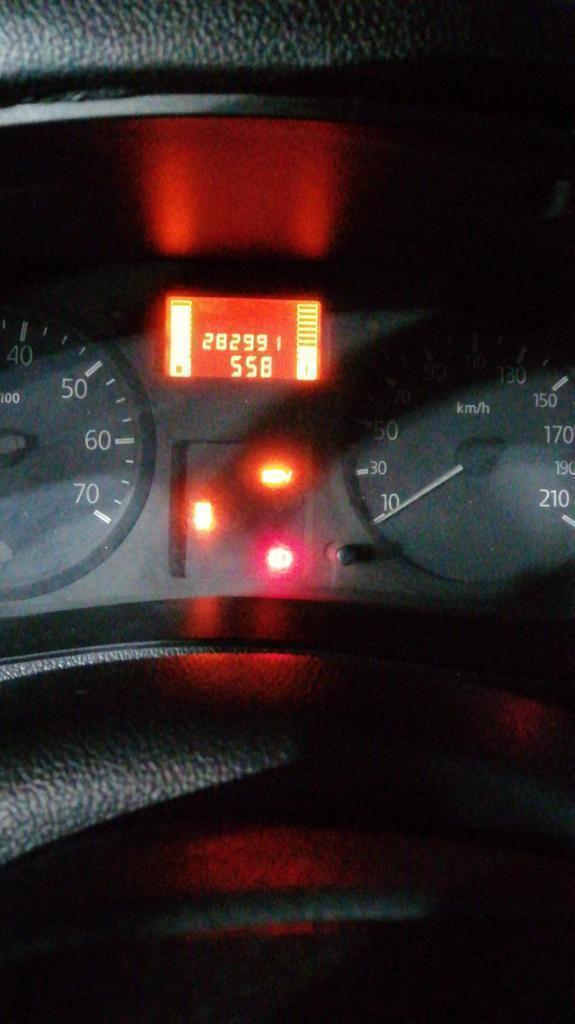1: (275, 334, 283, 352)
2: (202, 331, 214, 350), (229, 331, 240, 351)
5: (244, 354, 257, 377), (229, 354, 242, 377)
8: (259, 355, 272, 378), (215, 332, 227, 349)
9: (242, 333, 254, 351), (256, 333, 268, 350)
odometer: (162, 292, 326, 384)
